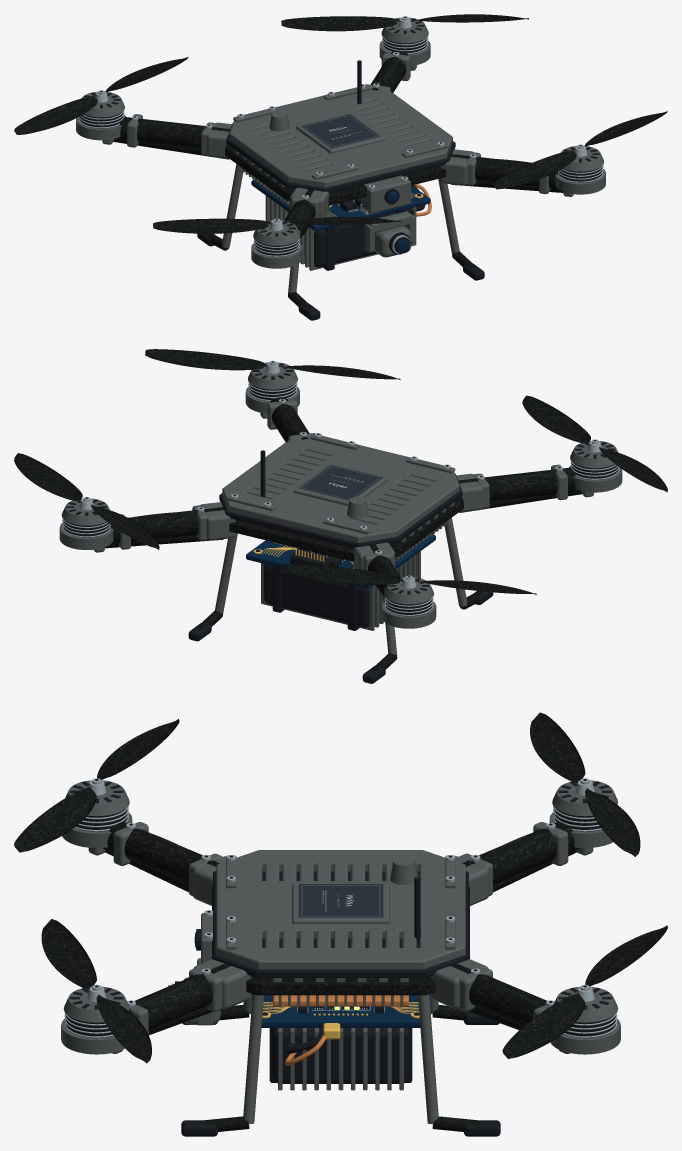
File: prana.glb
3 renders of one model, top to bottom at view 1: azimuth 30°, elevation 25°; view 2: azimuth 150°, elevation 25°; view 3: azimuth 270°, elevation 25°, orthographic. The views are drawn at different scales.
Visible parts, largest first — view 1: Chassis, Battery, Rotor_3, Rotor_2, Rotor_4, Rotor_1, PCB; view 2: Chassis, Battery, Rotor_4, Rotor_1, Rotor_3, Rotor_2, PCB; view 3: Chassis, Battery, Rotor_2, Rotor_4, Rotor_3, Rotor_1, PCB, Heatpipe.
Boxes of the visible parts, x1,y1,x2,y2 form: Chassis: (76, 16, 605, 320); Battery: (265, 184, 431, 270); Rotor_3: (281, 14, 528, 31); Rotor_2: (153, 216, 400, 233); Rotor_4: (493, 111, 667, 189); Rotor_1: (14, 56, 188, 134); PCB: (251, 179, 430, 231); Chassis: (59, 360, 622, 683); Battery: (261, 551, 420, 630); Rotor_4: (145, 349, 400, 379); Rotor_1: (281, 564, 536, 594); Rotor_3: (14, 453, 159, 549); Rotor_2: (522, 395, 667, 492); PCB: (246, 534, 435, 588); Chassis: (61, 778, 620, 1136); Battery: (269, 1023, 412, 1090); Rotor_2: (14, 719, 179, 852); Rotor_4: (41, 919, 151, 1063); Rotor_3: (502, 925, 667, 1058); Rotor_1: (530, 712, 640, 856); PCB: (252, 994, 429, 1027); Heatpipe: (273, 995, 408, 1006).
Size of the model in its own units: 6.23 by 1.93 by 4.95.
12 materials, 4 textured.
